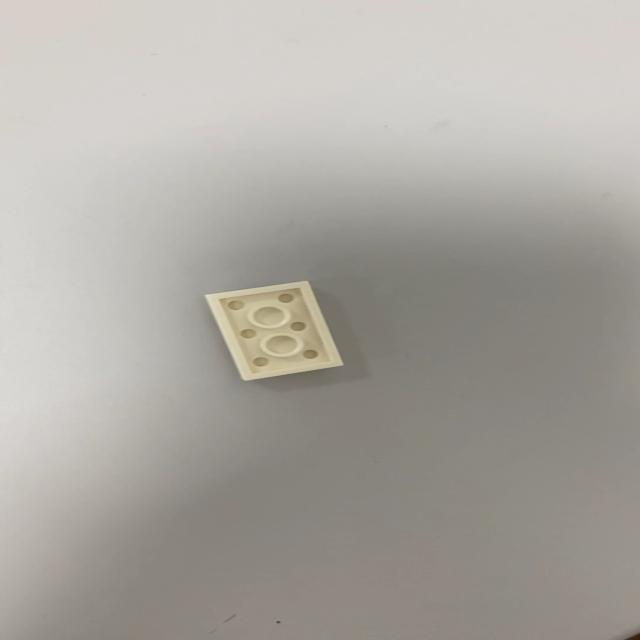C3x2x0: (203, 279, 345, 382)
